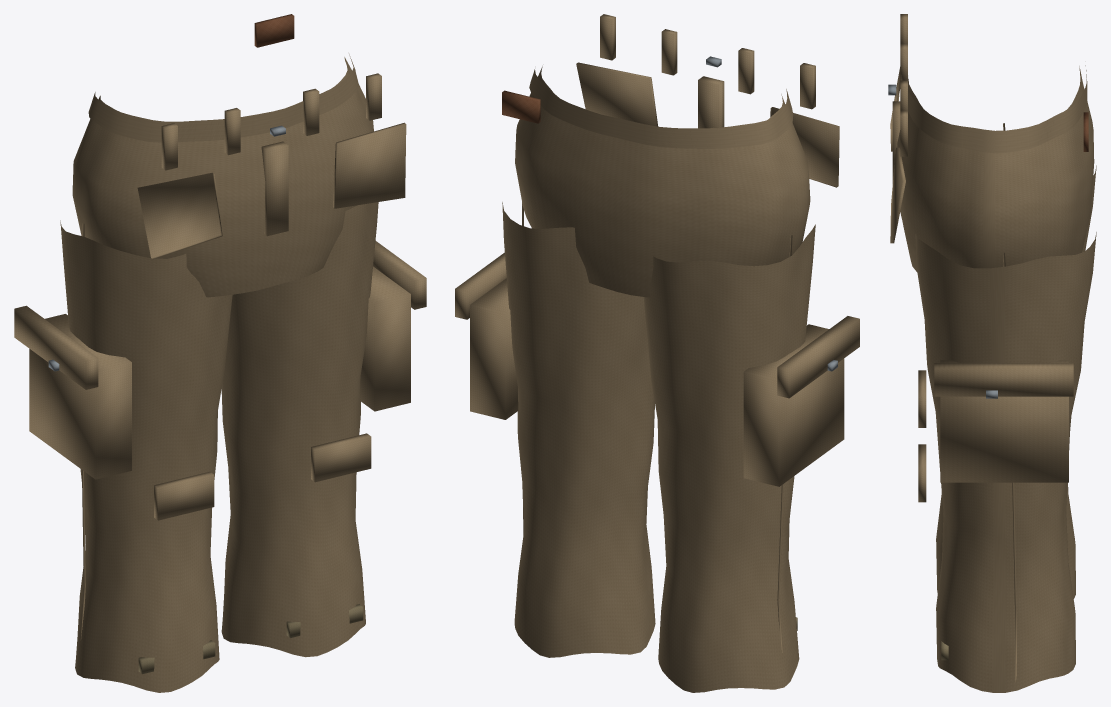
File: PZ_Survivor_07_CargoPants_Sand.glb
The picture shows the model from 3 angles, left to right: view 1: azimuth 30°, elevation 25°; view 2: azimuth 150°, elevation 25°; view 3: azimuth 270°, elevation 25°; orthographic projection. The views are drawn at different scales.
Parts seen in each view (by area): view 1: Trouser_Leg_L, Trouser_Leg_R, Waist_And_Seat_Fabric, Thigh_Cargo_Pocket_L, Thigh_Cargo_Pocket_R, Hip_Pocket_L, Hip_Pocket_R, Waistband_Double_Stitch, Thigh_Cargo_Flap_L, Fly_Zipper_Placket, Knee_Dart_L, Knee_Dart_R (+6 smaller); view 2: Trouser_Leg_L, Trouser_Leg_R, Waist_And_Seat_Fabric, Thigh_Cargo_Pocket_L, Waistband_Double_Stitch, Thigh_Cargo_Pocket_R, Hip_Pocket_R, Thigh_Cargo_Flap_L, Hip_Pocket_L, Thigh_Cargo_Flap_R, Fly_Zipper_Placket, Back_Maker_Patch (+4 smaller); view 3: Trouser_Leg_R, Waist_And_Seat_Fabric, Thigh_Cargo_Pocket_R, Thigh_Cargo_Flap_R, Waistband_Double_Stitch, Trouser_Leg_L, Hip_Pocket_R, Knee_Dart_R, Outer_Seam_R, Knee_Dart_L, Fly_Zipper_Placket, Belt_Loop_R_0.182.
Boxes of the visible parts, x1,y1,x2,y2 form: Trouser_Leg_L: [60, 220, 232, 692]; Trouser_Leg_R: [221, 202, 378, 657]; Waist_And_Seat_Fabric: [72, 57, 373, 297]; Thigh_Cargo_Pocket_L: [29, 314, 131, 479]; Thigh_Cargo_Pocket_R: [360, 266, 410, 411]; Hip_Pocket_L: [137, 172, 222, 259]; Hip_Pocket_R: [333, 122, 406, 208]; Waistband_Double_Stitch: [88, 54, 358, 142]; Thigh_Cargo_Flap_L: [14, 305, 98, 389]; Fly_Zipper_Placket: [261, 141, 288, 236]; Knee_Dart_L: [154, 471, 214, 520]; Knee_Dart_R: [311, 433, 371, 482]; Trouser_Leg_L: [643, 224, 815, 692]; Trouser_Leg_R: [502, 202, 655, 657]; Waist_And_Seat_Fabric: [515, 66, 810, 297]; Thigh_Cargo_Pocket_L: [743, 324, 844, 486]; Waistband_Double_Stitch: [529, 69, 793, 148]; Thigh_Cargo_Pocket_R: [470, 278, 518, 419]; Hip_Pocket_R: [576, 62, 658, 126]; Thigh_Cargo_Flap_L: [777, 316, 859, 398]; Hip_Pocket_L: [770, 107, 839, 187]; Thigh_Cargo_Flap_R: [455, 252, 506, 319]; Fly_Zipper_Placket: [698, 76, 724, 128]; Back_Maker_Patch: [502, 90, 540, 123]; Trouser_Leg_R: [915, 232, 1096, 692]; Waist_And_Seat_Fabric: [897, 66, 1094, 271]; Thigh_Cargo_Pocket_R: [940, 360, 1068, 482]; Thigh_Cargo_Flap_R: [934, 363, 1073, 396]; Waistband_Double_Stitch: [901, 65, 1087, 153]; Trouser_Leg_L: [936, 165, 1096, 598]; Hip_Pocket_R: [890, 147, 905, 243]; Knee_Dart_R: [918, 444, 926, 502]; Outer_Seam_R: [1003, 252, 1016, 681]; Knee_Dart_L: [918, 370, 926, 427]; Fly_Zipper_Placket: [892, 101, 900, 183]; Belt_Loop_R_0.182: [900, 110, 907, 156].
Size of the model in its own units: 0.624 by 0.9935 by 0.3325.
4 materials, 4 textured.
